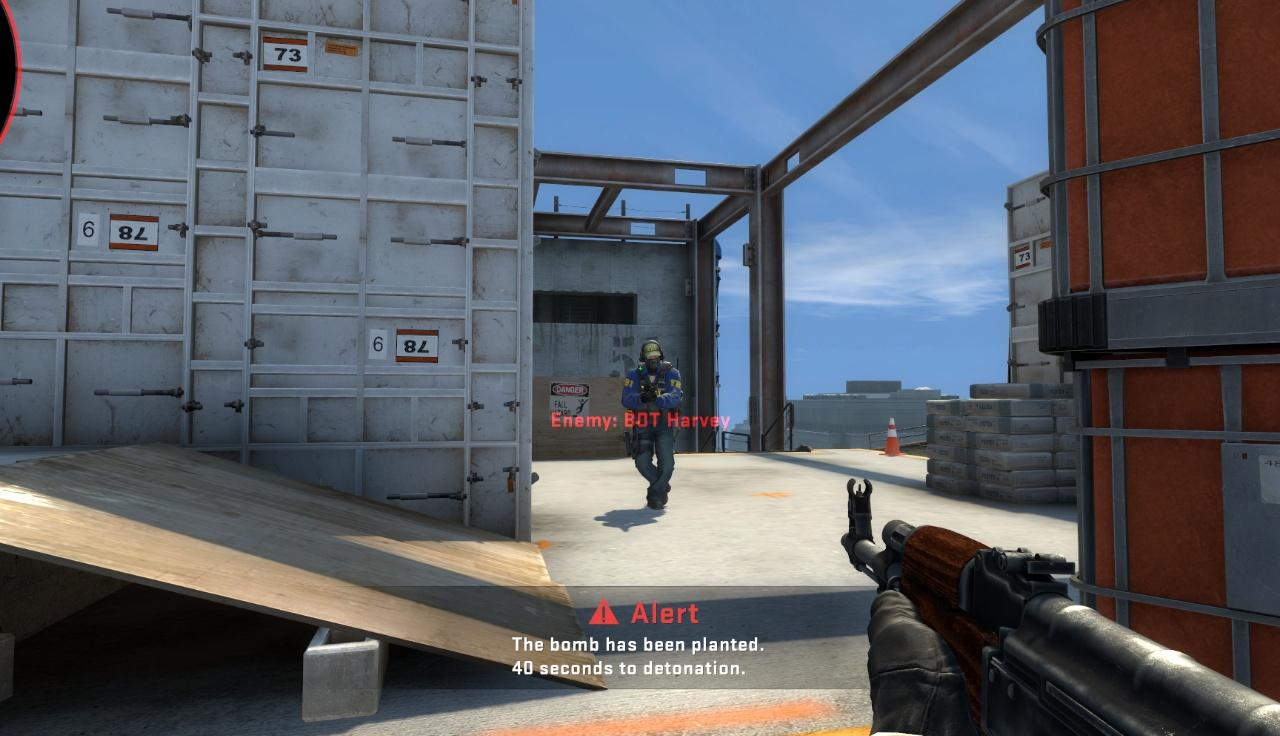ct: (623, 340, 684, 508)
cthead: (639, 340, 663, 372)
rifle: (837, 472, 1280, 736)
